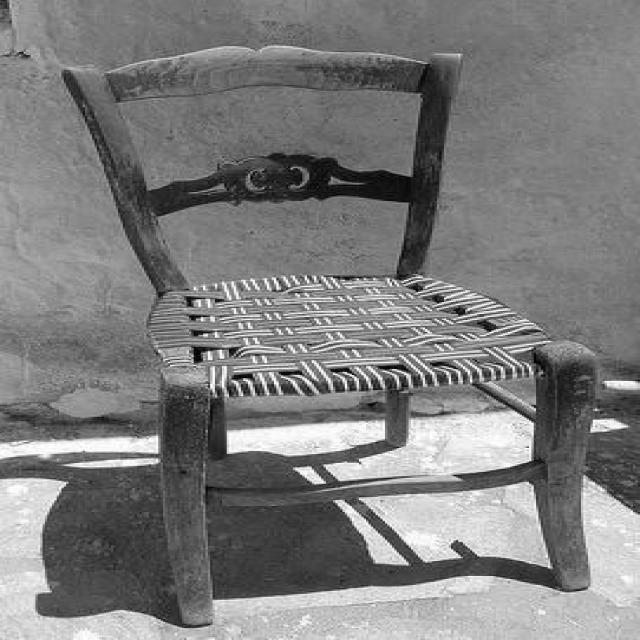chair: (60, 37, 590, 624)
